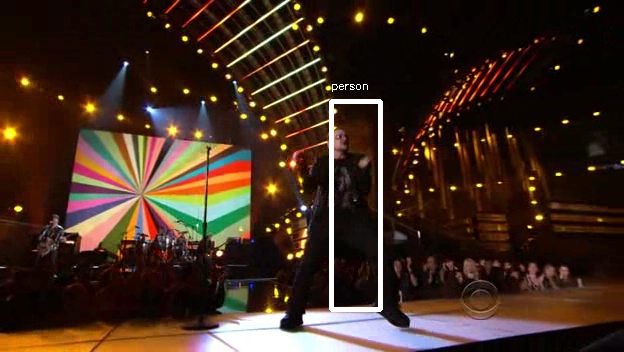person: (308, 128, 373, 246), (305, 128, 370, 246), (311, 128, 376, 246), (308, 125, 373, 243), (308, 131, 373, 249)
target_negative: (307, 237, 531, 346), (76, 196, 132, 350), (612, 30, 618, 307), (538, 329, 616, 339), (244, 344, 280, 349)
